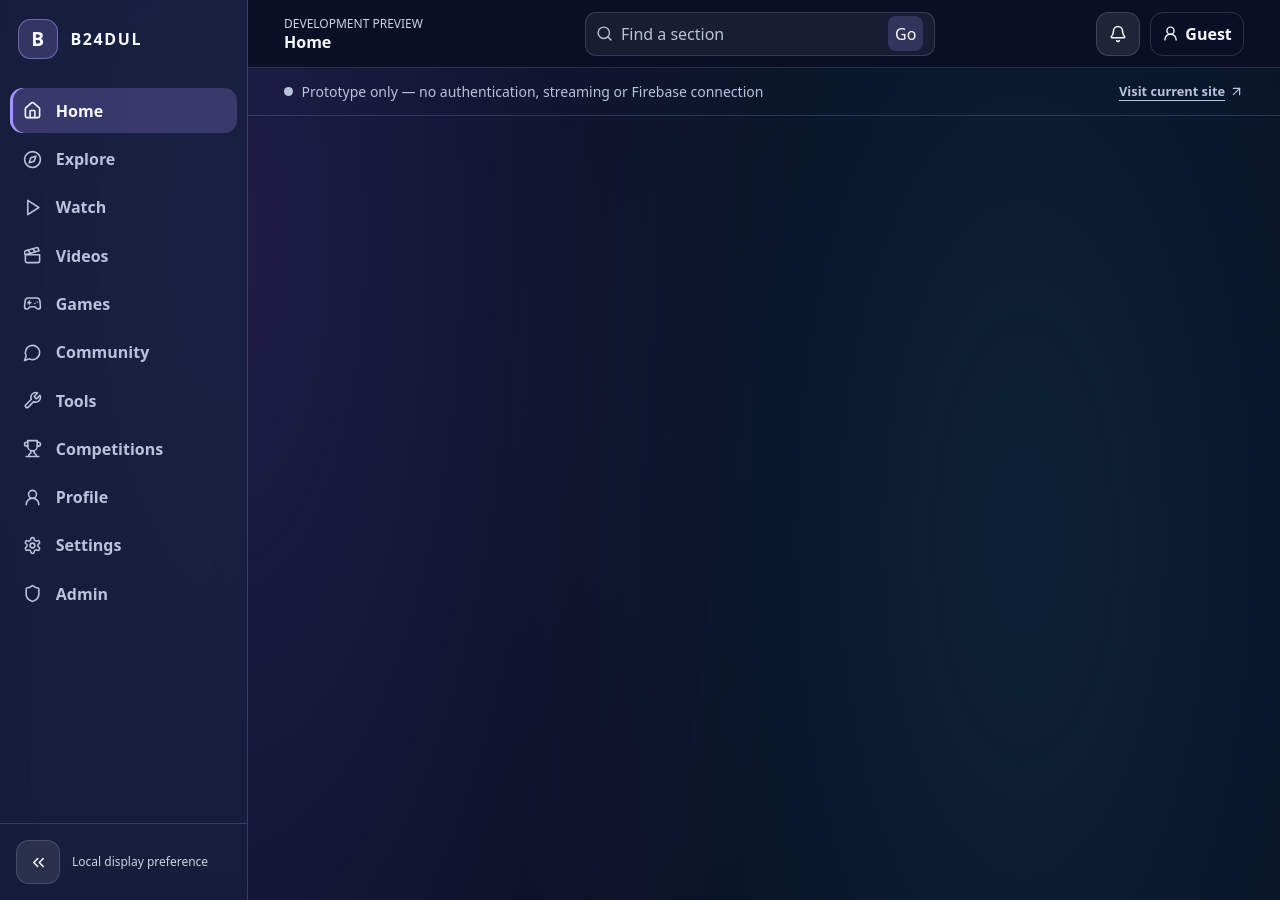
Test: isolated application shell › navigates only to named sections using the header search
The image size is (1280, 900).
Type "not-real" into the search field labelled "Find a section". click: (751, 34)
box: 621,22 -> 880,46
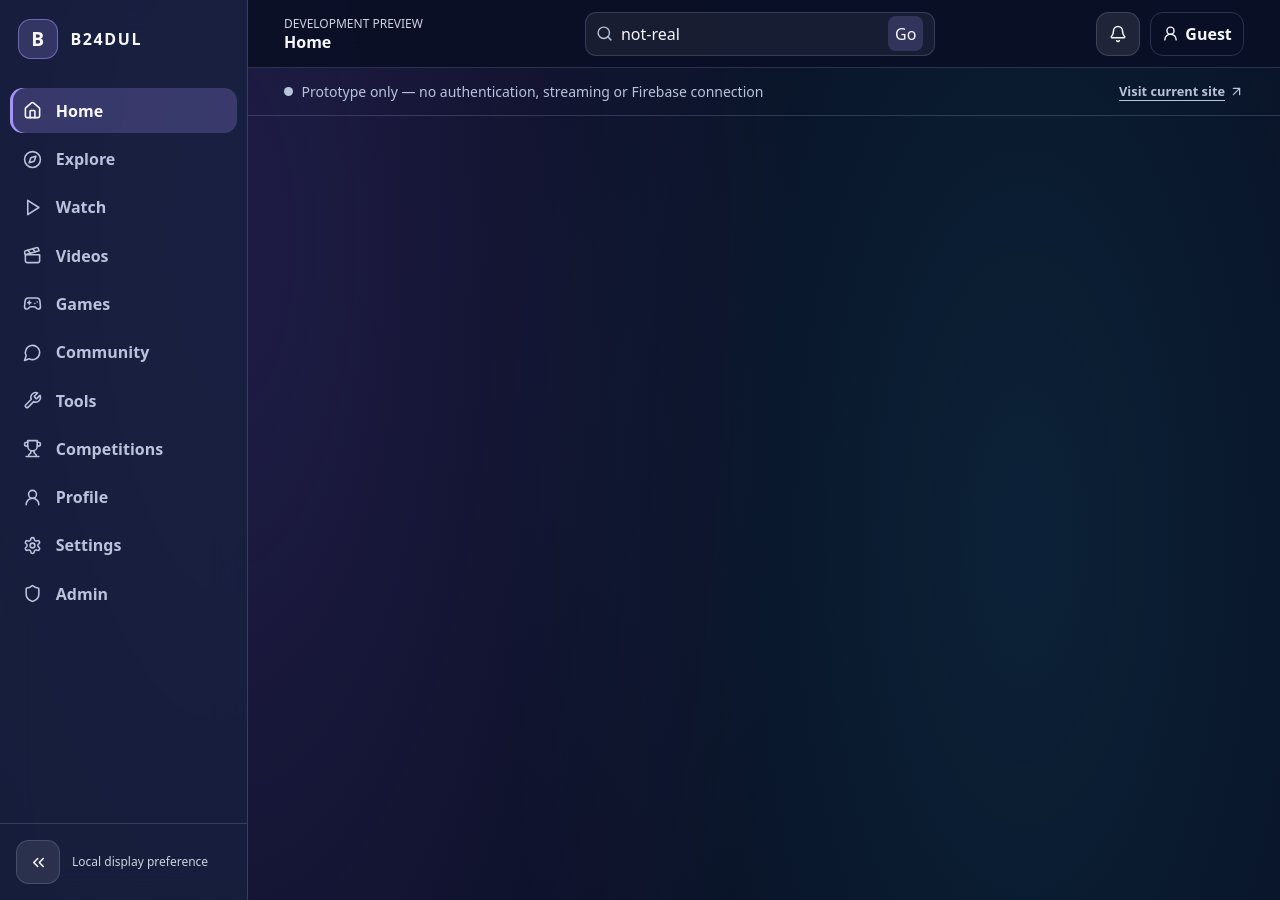
Click the button with aria-label "Go to section". click: (906, 34)
box: 888,16 -> 923,51
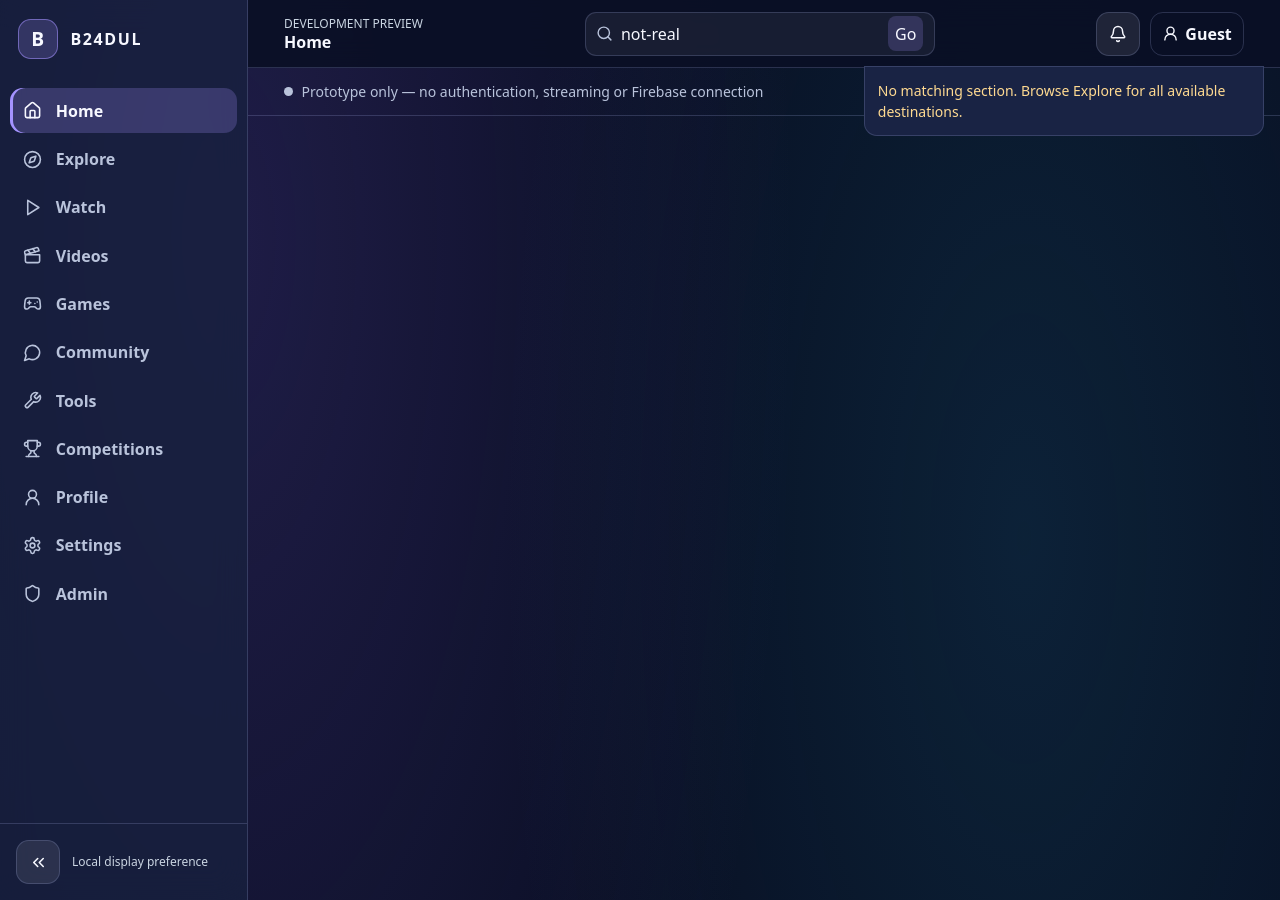
Check: the text "No matching section. Browse Explore for all available destinations." is shown, box 864,66 -> 1264,136
Replace the text in the search field named "Find a section" with "tools". click: (751, 34)
box: 621,22 -> 880,46
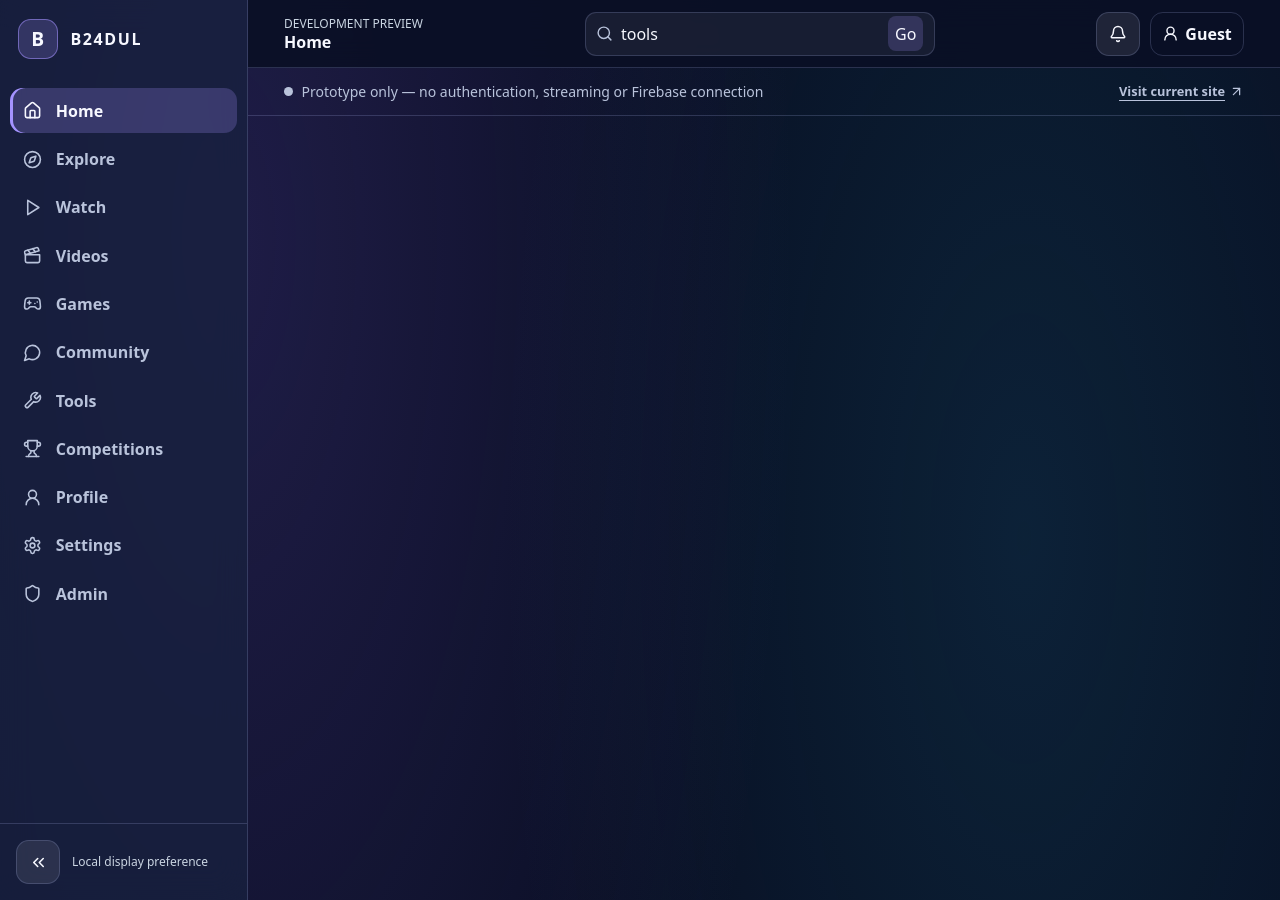
Click the button with aria-label "Go to section". click: (906, 34)
box: 888,16 -> 923,51
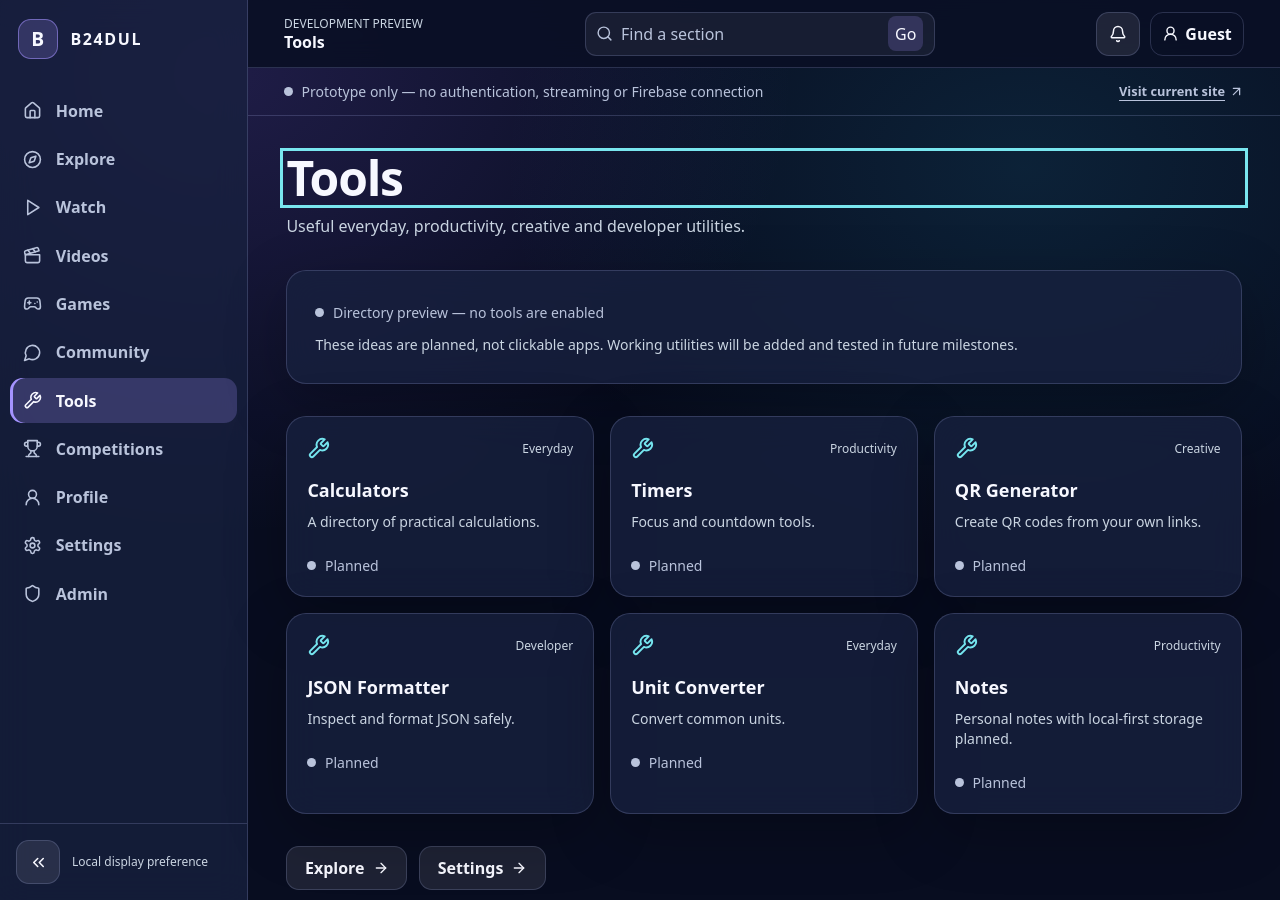
Check: the heading "Tools" is shown, box 286,145 -> 403,210
